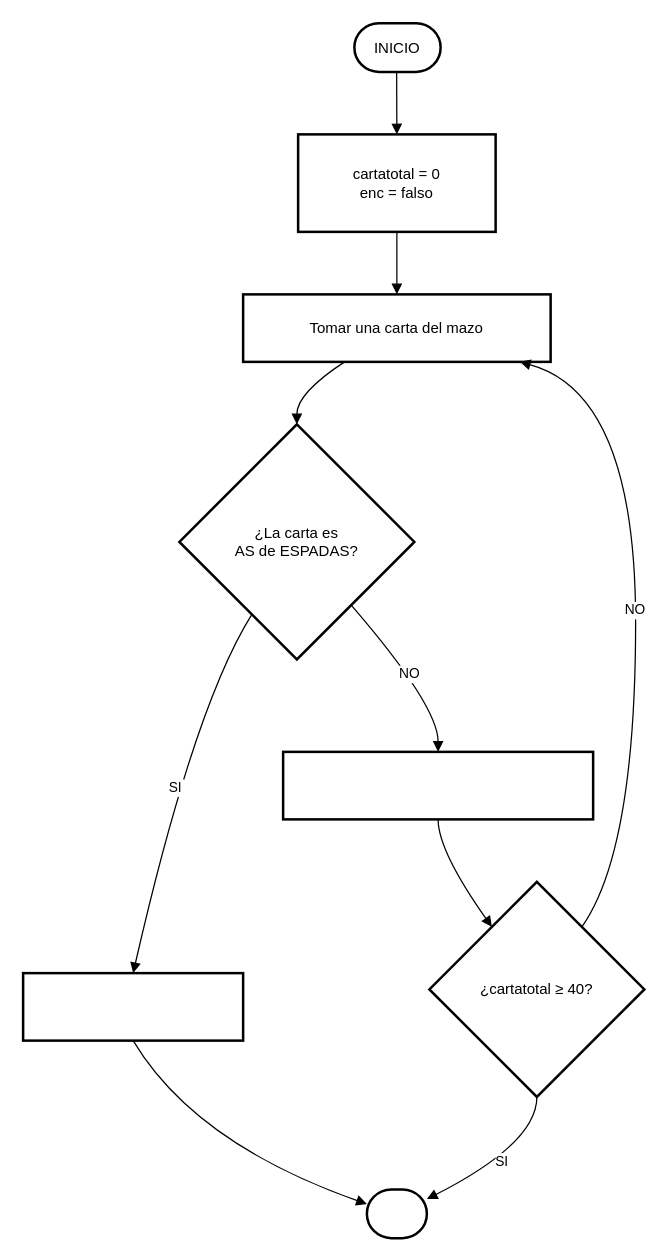
Some shapes in this 668 by 1260 pixel diagram are drawn without their labels. Here are the shapes that lost their labels. From the top down, the centre of each, then its label:
At pixel 437 785: "cartatotal = cartatotal + 1".
At pixel 132 1006: "enc = verdadero".
At pixel 396 1213: "FIN".
